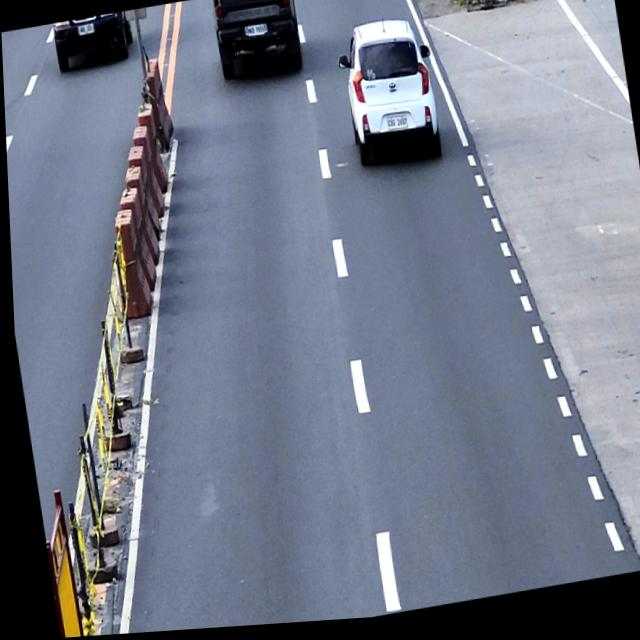Car: (332, 16, 445, 181), (208, 0, 304, 87), (51, 12, 136, 74)
License-Plate: (384, 119, 407, 137), (245, 26, 265, 41), (76, 23, 94, 37)
